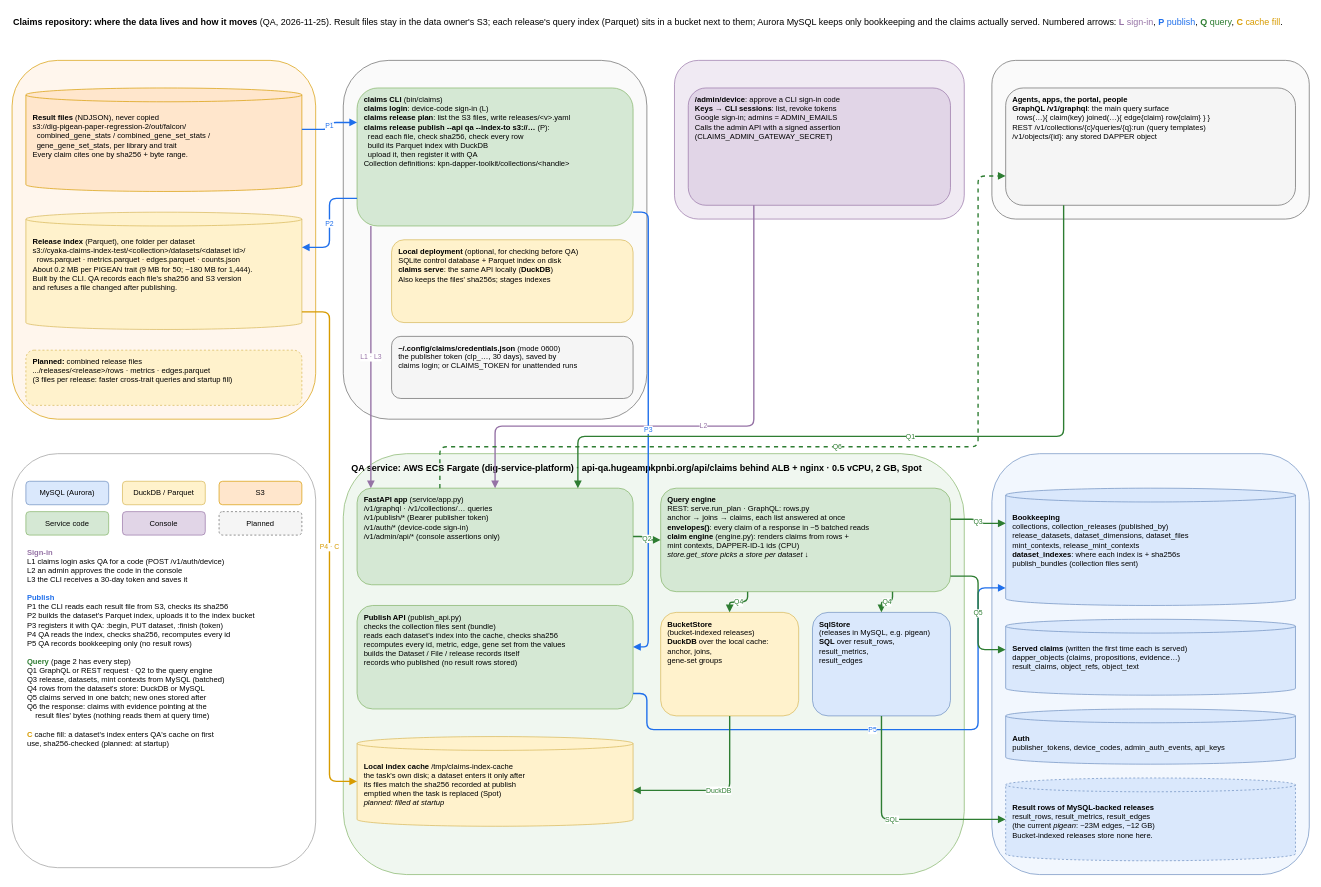
Some shapes in this 1321 by 887 pixel diagram are drawn without their labels. The shapes that lost their labels are listed below. From the top down, each one's box as (x1, y1, x2, y2) in pixels, then its label:
(674, 60, 964, 219): Admin console (Vercel, Next.js)
(991, 60, 1309, 219): Clients
(11, 60, 316, 419): Data owner's AWS (S3): data stays here
(343, 60, 647, 419): Publishing machine (your server or laptop)
(11, 453, 316, 868): Legend
(991, 453, 1309, 875): Aurora MySQL · cyaka_claims_repository_v2 (shared by QA and prod)
